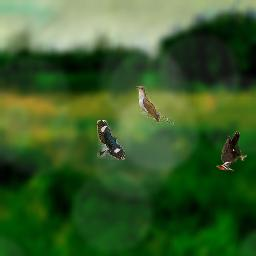Cuckoo: (136, 86, 176, 125)
Woodpecker: (216, 131, 247, 171), (97, 120, 125, 160)
